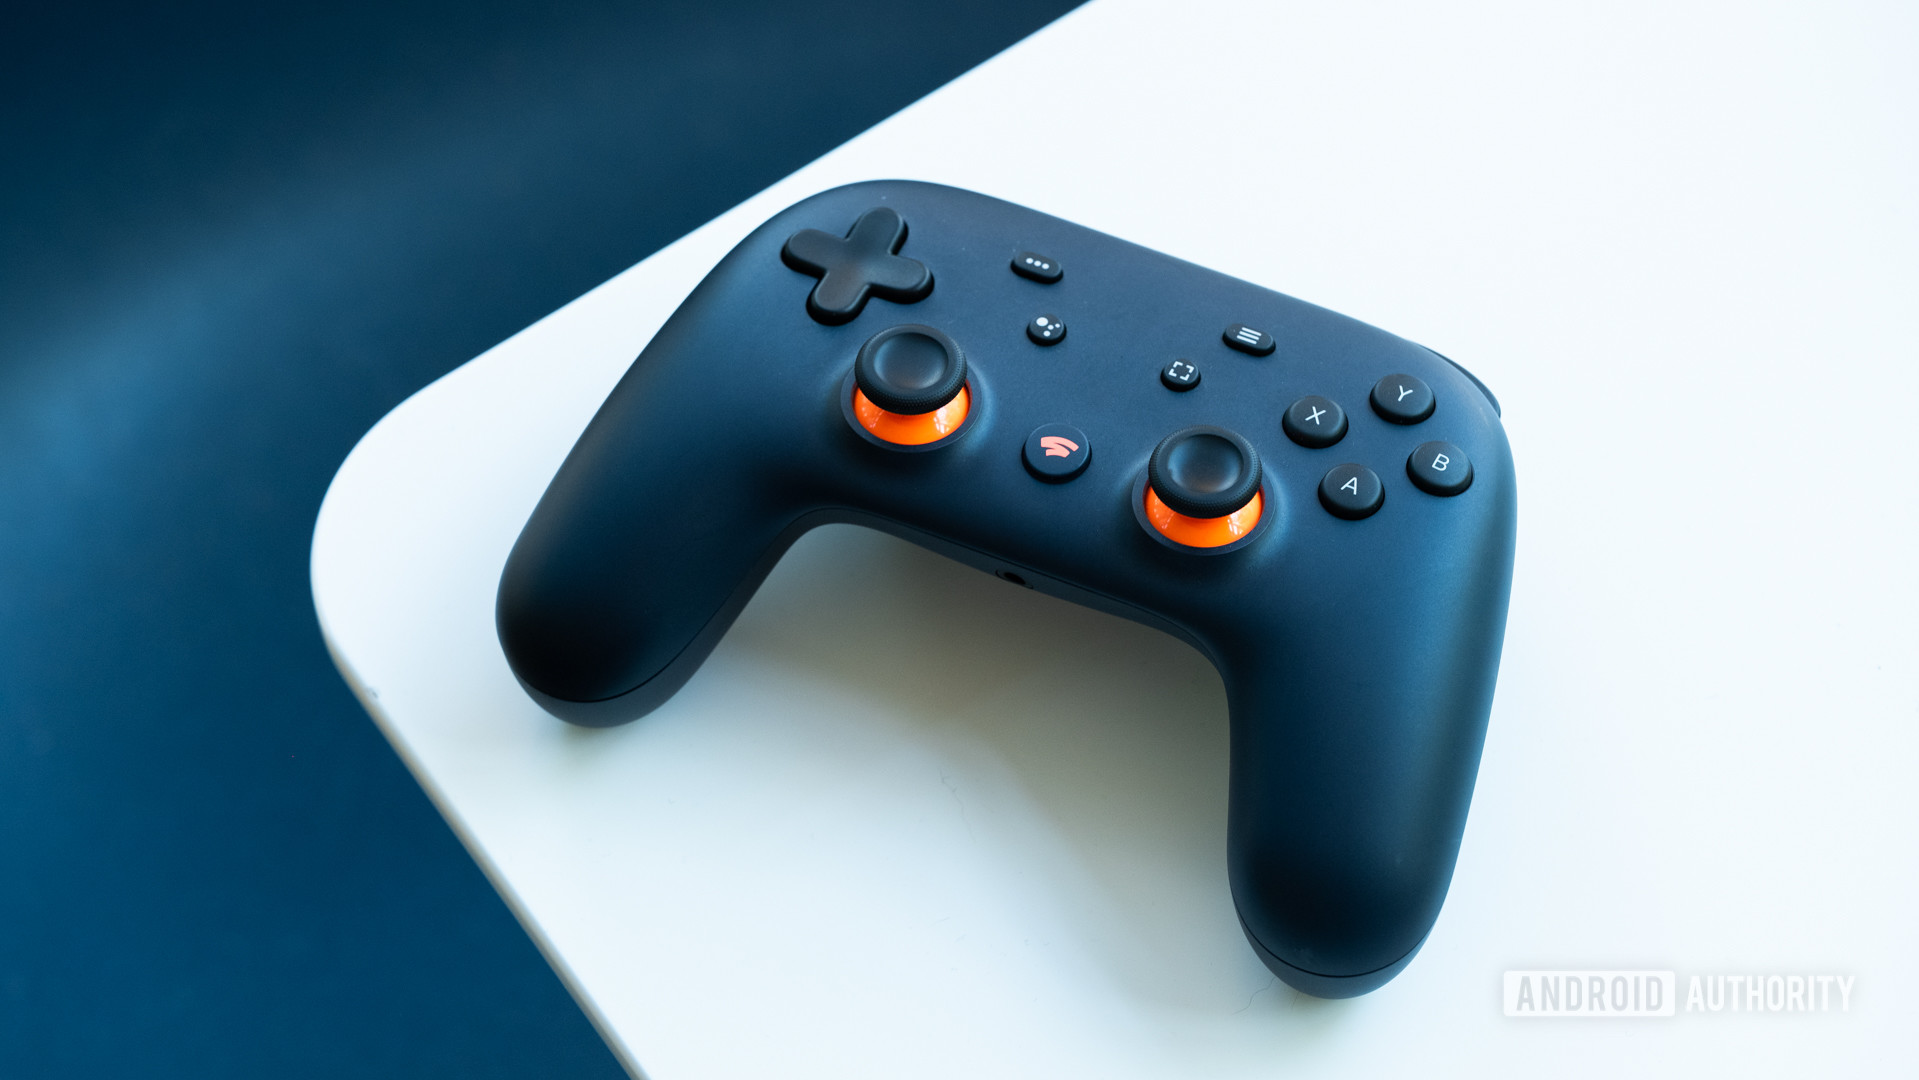controller: (494, 177, 1521, 1002)
